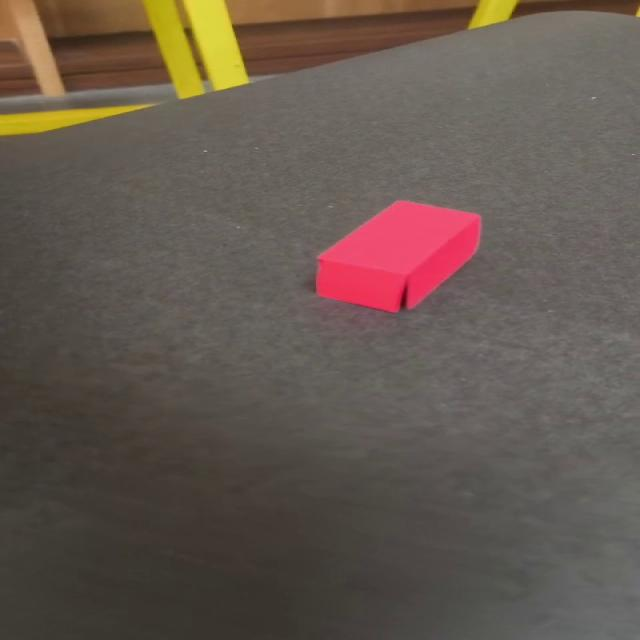red block: (314, 198, 482, 314)
